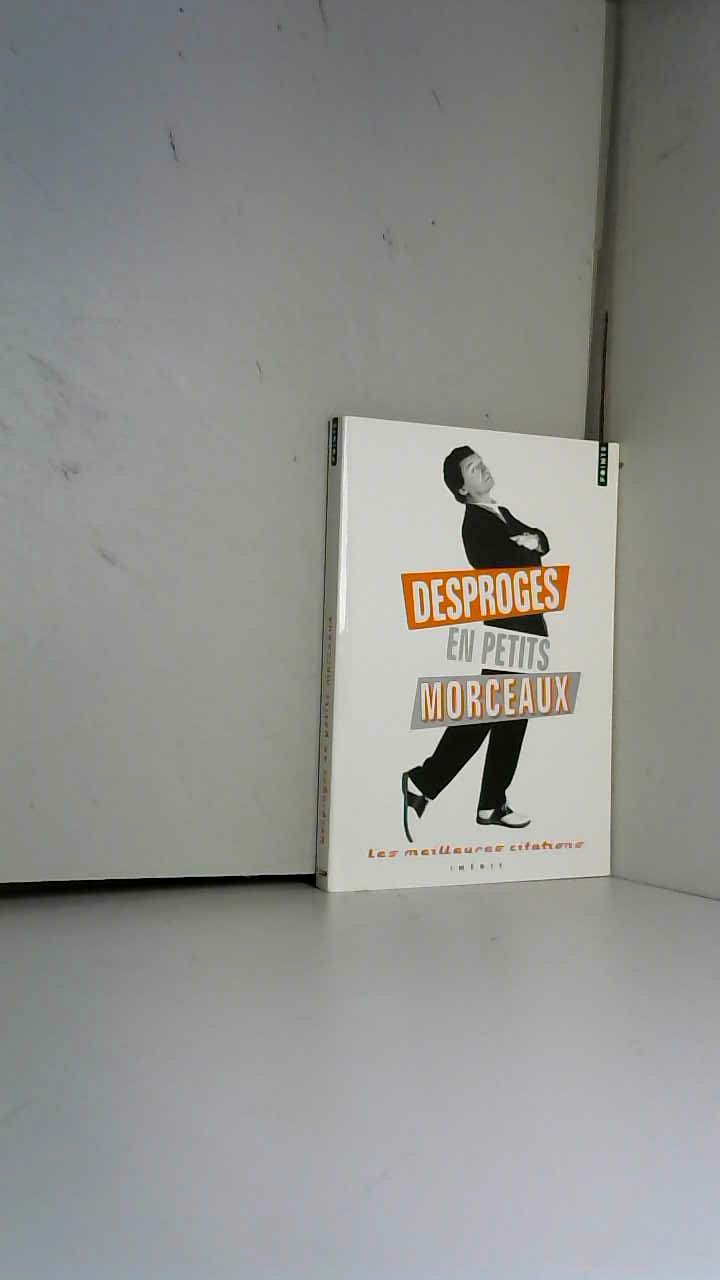book: (304, 402, 630, 906)
